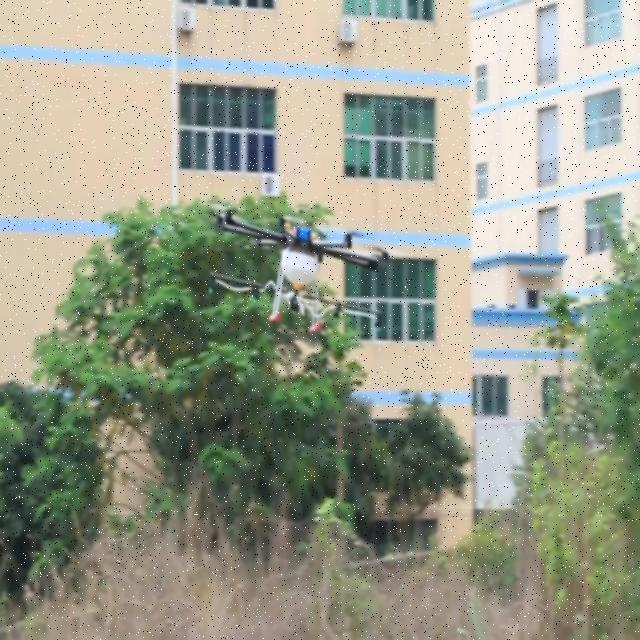UAV: (208, 210, 388, 333)
